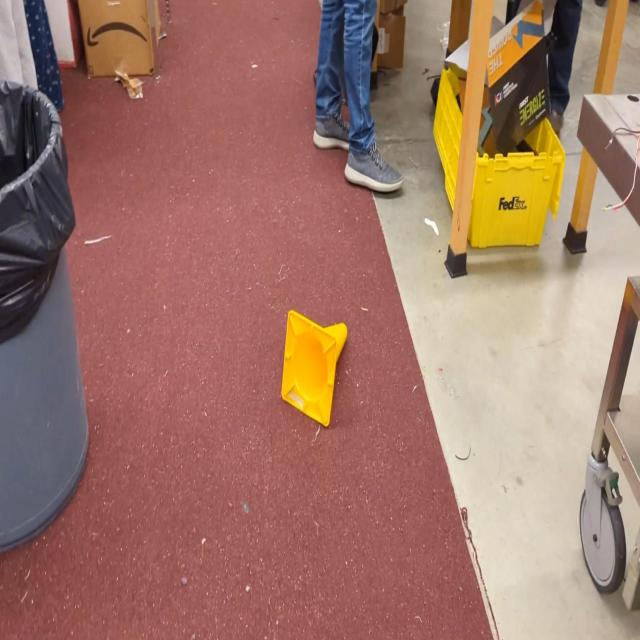frc_cone: (280, 308, 347, 428)
